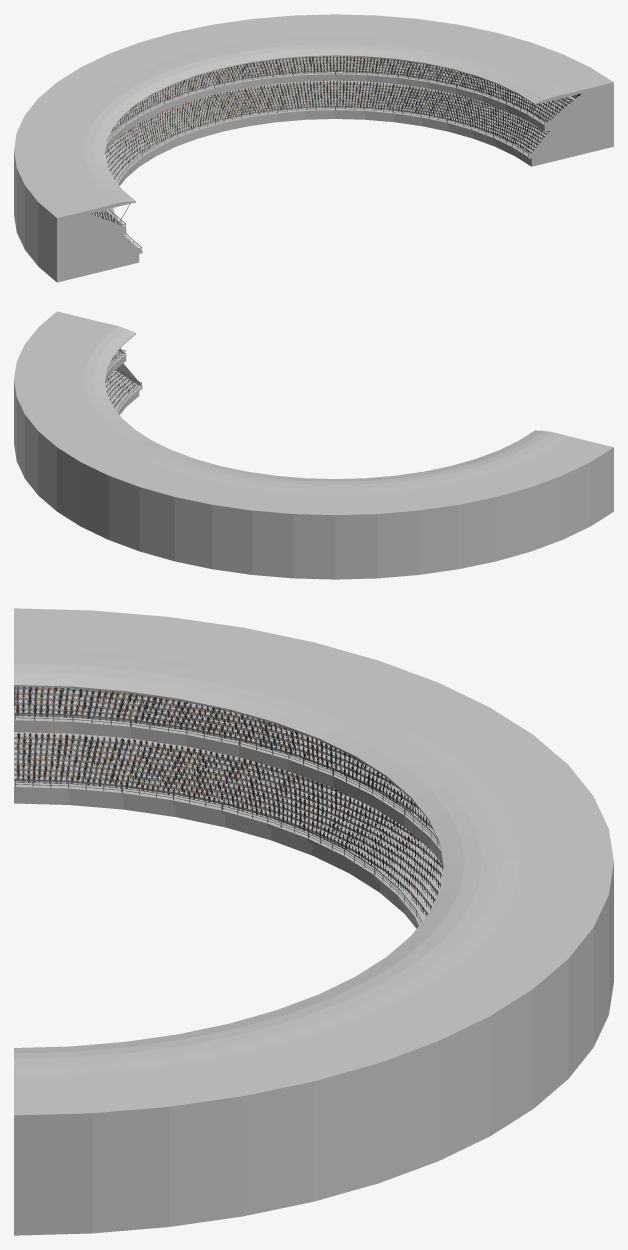
Rendered from Stand-09.fbx.
3 renders of one model, top to bottom at view 1: azimuth 30°, elevation 25°; view 2: azimuth 150°, elevation 25°; view 3: azimuth 270°, elevation 25°, orthographic. The views are drawn at different scales.
Parts seen in each view (by area): view 1: Stand-09, Audience; view 2: Stand-09, Audience; view 3: Stand-09, Audience.
Part boxes in pixels (bbox=[...]): Stand-09: bbox=[14, 14, 613, 282]; Audience: bbox=[90, 56, 573, 243]; Stand-09: bbox=[14, 311, 613, 579]; Audience: bbox=[105, 350, 137, 408]; Stand-09: bbox=[14, 608, 613, 1235]; Audience: bbox=[16, 686, 443, 916].
Size of the model in its own units: 21497 by 2384 by 10749.
